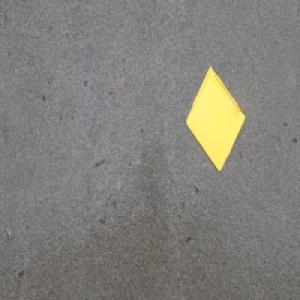PlasticPart: (184, 65, 246, 173)
